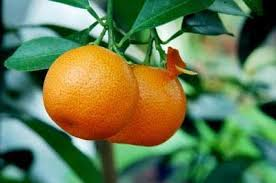orange: (43, 42, 138, 140), (109, 59, 188, 146)
